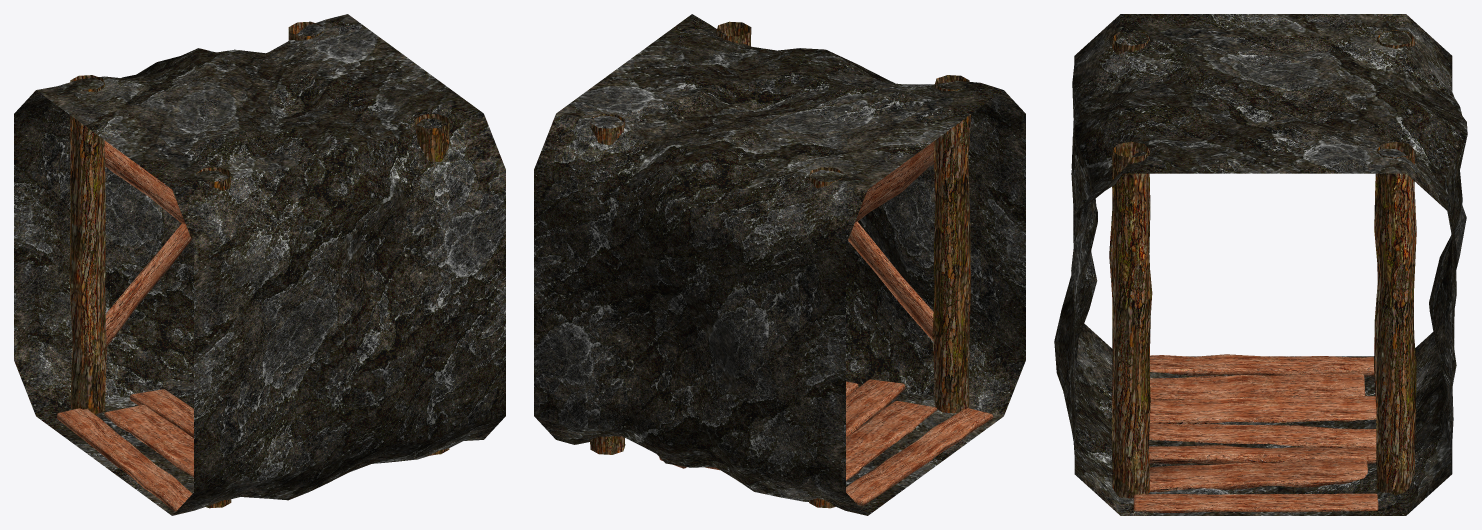
The model's file is Cave_009.fbx.
3 renders of one model, left to right at view 1: azimuth 30°, elevation 25°; view 2: azimuth 150°, elevation 25°; view 3: azimuth 270°, elevation 25°, orthographic. The views are drawn at different scales.
Visible parts, largest first — view 1: Cave.009; view 2: Cave.009; view 3: Cave.009.
Part boxes in pixels (box(x1,y1,x2,y2)): Cave.009: box(14, 14, 505, 515); Cave.009: box(534, 14, 1025, 515); Cave.009: box(1054, 14, 1467, 515).
Bounding box in the file's own units: 300 × 313 × 328.
